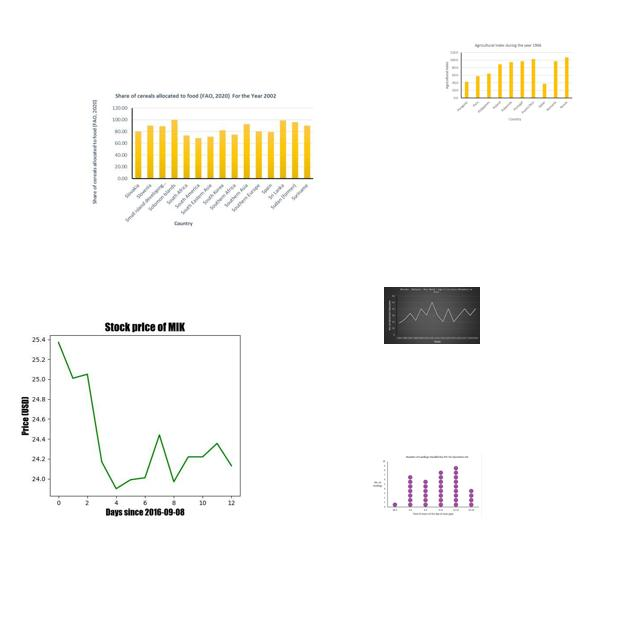Graph: (2, 310, 281, 519), (81, 91, 320, 228), (443, 42, 575, 121), (370, 453, 482, 518), (384, 287, 480, 344)
